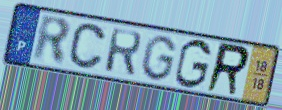C: (67, 22, 108, 72)
G: (173, 38, 214, 91), (138, 34, 179, 83)
R: (203, 40, 252, 99), (31, 13, 73, 68), (103, 27, 144, 79)
